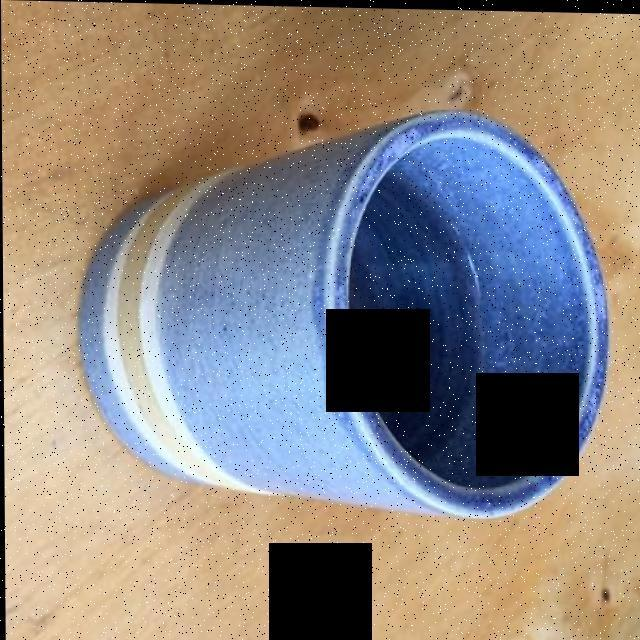drink: (350, 172, 481, 463)
